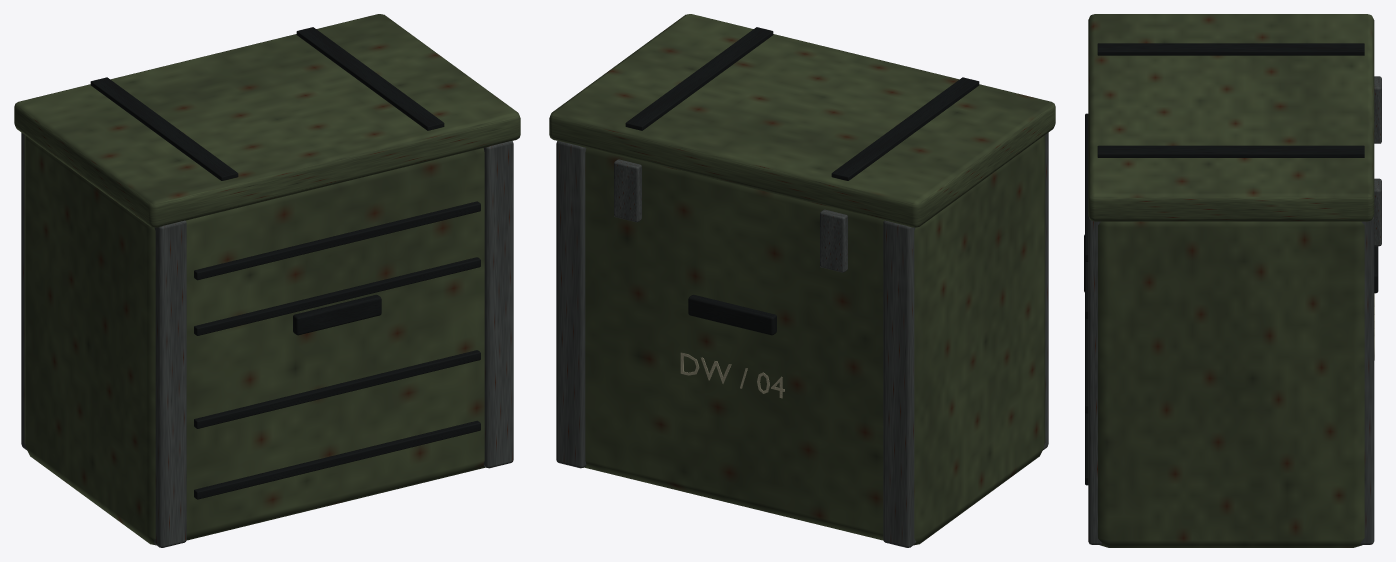
File: crate.glb
The picture shows the model from 3 angles, left to right: view 1: azimuth 30°, elevation 25°; view 2: azimuth 150°, elevation 25°; view 3: azimuth 270°, elevation 25°; orthographic projection.
Parts seen in each view (by area): view 1: body_olive, body_steel, body_darksteel; view 2: body_olive, body_steel, body_darksteel, body_ivory; view 3: body_olive, body_darksteel, body_steel.
Boxes of the visible parts, x1=… form: body_olive: x1=14, y1=14, x2=520, y2=545; body_steel: x1=21, y1=132, x2=513, y2=547; body_darksteel: x1=90, y1=27, x2=480, y2=499; body_olive: x1=549, y1=14, x2=1055, y2=545; body_steel: x1=556, y1=132, x2=1048, y2=547; body_darksteel: x1=625, y1=27, x2=979, y2=335; body_ivory: x1=680, y1=352, x2=784, y2=398; body_olive: x1=1088, y1=14, x2=1374, y2=547; body_darksteel: x1=1084, y1=43, x2=1378, y2=485; body_steel: x1=1088, y1=76, x2=1381, y2=544.
Bounding box in the file's own units: 1.04 × 0.966 × 0.7135.
Materials: 4 (4 with a texture image).
